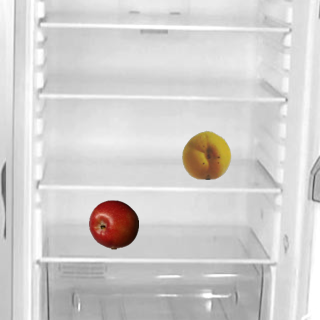Apple Braeburn: (88, 199, 138, 249)
Peach 2: (181, 129, 231, 179)
